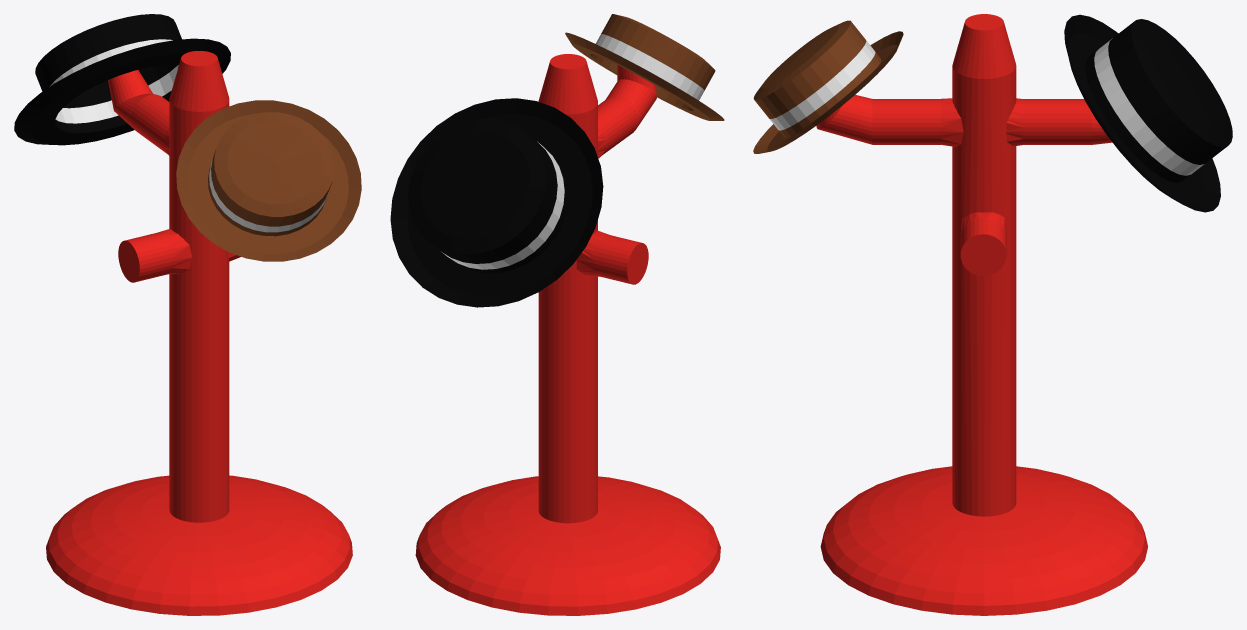
File: hatstand.fbx
3 views of the same model, side by side, from view 1: azimuth 30°, elevation 25°; view 2: azimuth 150°, elevation 25°; view 3: azimuth 270°, elevation 25° (orthographic). The views are drawn at different scales.
Parts seen in each view (by area): view 1: Sphere; view 2: Sphere; view 3: Sphere.
Part boxes in pixels (bbox=[...]): Sphere: bbox=[14, 14, 361, 615]; Sphere: bbox=[390, 14, 724, 615]; Sphere: bbox=[753, 14, 1232, 615].
Bounding box in the file's own units: 200 × 353 × 293.
